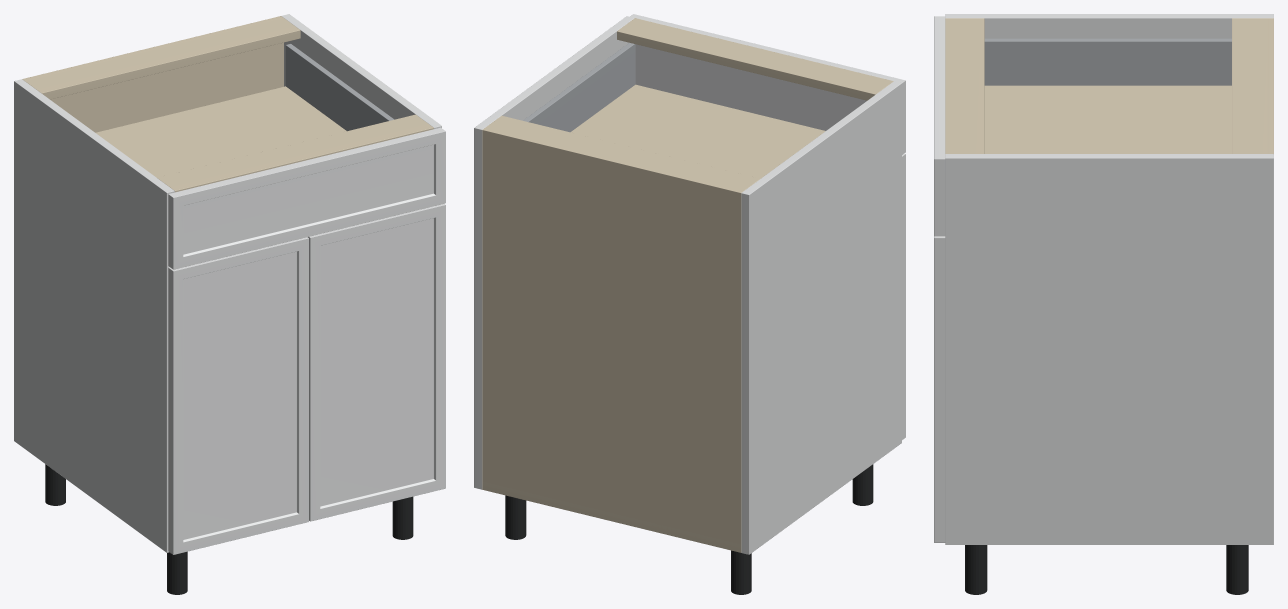
The model's file is oppein-ply-ssw-b24.glb.
3 renders of one model, left to right at view 1: azimuth 30°, elevation 25°; view 2: azimuth 150°, elevation 25°; view 3: azimuth 270°, elevation 25°, orthographic. The views are drawn at different scales.
Parts seen in each view (by area): view 1: Cabinet side, Door, Door.001, Drawer front, Drawer floor, Cabinet back, Top support rail, Top support rail.001, Drawer side.001, Cabinet side.001, Adjustable foot.003, Adjustable foot.001 (+1 smaller); view 2: Cabinet back, Cabinet side, Drawer floor, Drawer front, Top support rail.001, Cabinet side.001, Top support rail, Drawer side.001, Cabinet bottom, Door, Adjustable foot.002, Adjustable foot (+1 smaller); view 3: Cabinet side.001, Drawer floor, Drawer side, Cabinet side, Top support rail.001, Top support rail, Door.001, Drawer front, Adjustable foot.002, Adjustable foot.003, Cabinet back.
Part boxes in pixels (bbox=[...]): Cabinet side: bbox=[14, 79, 174, 552]; Door: bbox=[168, 237, 308, 554]; Door.001: bbox=[307, 203, 445, 521]; Drawer front: bbox=[168, 127, 445, 269]; Drawer floor: bbox=[95, 86, 346, 177]; Cabinet back: bbox=[22, 16, 283, 132]; Top support rail: bbox=[24, 18, 300, 99]; Top support rail.001: bbox=[157, 114, 433, 192]; Drawer side.001: bbox=[285, 44, 393, 131]; Cabinet side.001: bbox=[281, 14, 441, 128]; Adjustable foot.003: bbox=[392, 496, 413, 539]; Adjustable foot.001: bbox=[167, 551, 187, 594]; Cabinet back: bbox=[482, 127, 743, 552]; Cabinet side: bbox=[741, 81, 901, 554]; Drawer floor: bbox=[570, 84, 825, 178]; Drawer front: bbox=[630, 14, 905, 154]; Top support rail.001: bbox=[617, 18, 893, 100]; Cabinet side.001: bbox=[474, 16, 634, 489]; Top support rail: bbox=[486, 115, 759, 191]; Drawer side.001: bbox=[523, 43, 635, 132]; Cabinet bottom: bbox=[482, 481, 740, 552]; Door: bbox=[902, 153, 905, 439]; Adjustable foot.002: bbox=[505, 495, 526, 539]; Adjustable foot: bbox=[731, 550, 751, 594]; Cabinet side.001: bbox=[945, 154, 1273, 544]; Drawer floor: bbox=[984, 85, 1231, 153]; Drawer side: bbox=[984, 38, 1231, 85]; Cabinet side: bbox=[945, 14, 1273, 38]; Top support rail.001: bbox=[945, 18, 984, 153]; Top support rail: bbox=[1232, 18, 1267, 153]; Door.001: bbox=[934, 236, 945, 542]; Drawer front: bbox=[934, 16, 945, 236]; Adjustable foot.002: bbox=[1226, 545, 1248, 594]; Adjustable foot.003: bbox=[965, 545, 987, 594]; Cabinet back: bbox=[1267, 18, 1273, 153].
Size of the model in its own units: 0.6096 by 0.8763 by 0.6064.
